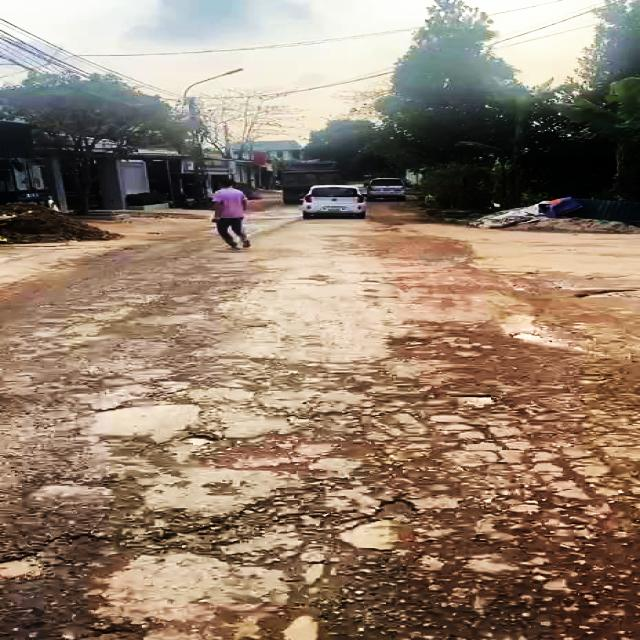pothole: (0, 535, 91, 584), (320, 498, 421, 536), (145, 519, 248, 556), (180, 432, 220, 448)
